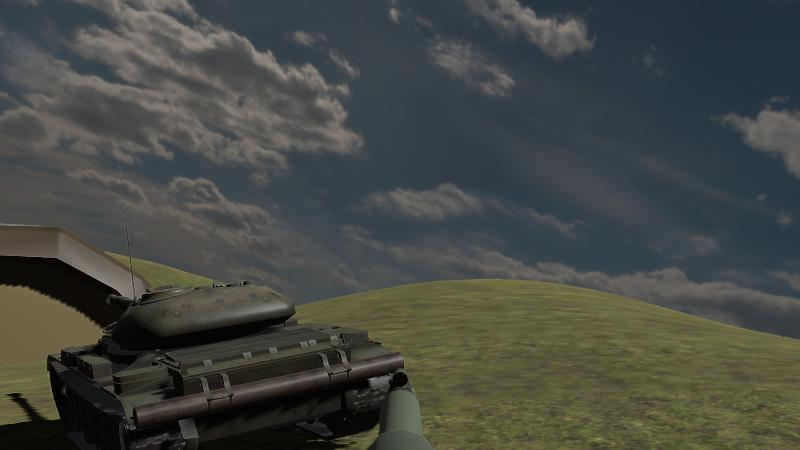Tank: (43, 275, 407, 449)
